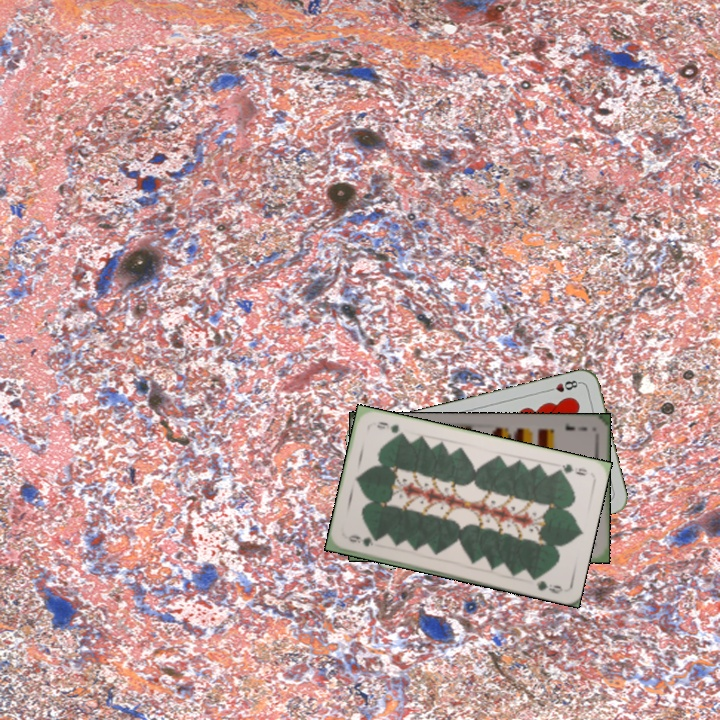E7: (562, 419, 589, 433)
G9: (552, 460, 589, 478), (344, 531, 380, 549)
H8: (543, 376, 583, 395)
